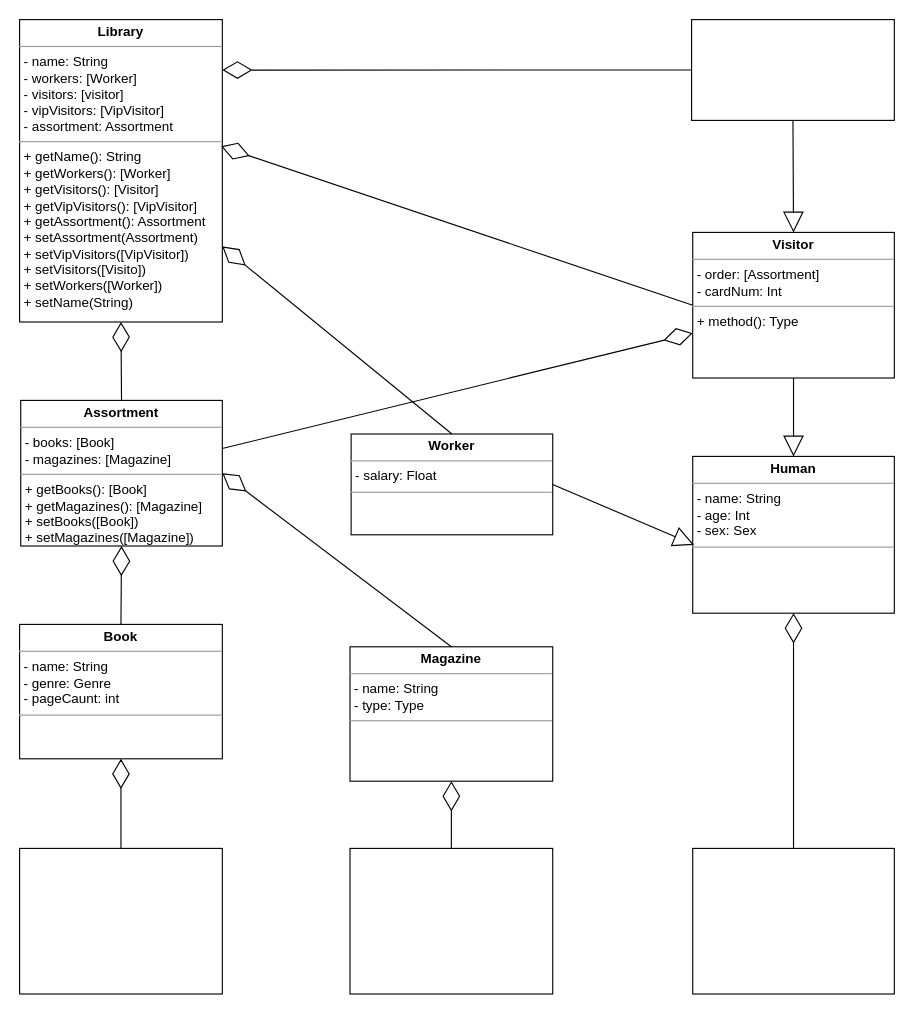
The diagram is 914 pixels wide and 1014 high, and some of its shapes have lost their labels. Each missing label, with the centre of its shape:
"enum Genre + Fantasy + Romance + Thriller + Mystery + Detective story + Horror" goes at (x=120, y=920).
"enum Sex + male + female" goes at (x=793, y=920).
"enum Type + Fashion + Video games + Health + Football + Music + Comics" goes at (x=451, y=920).
"VipVisitor - sale: Float" goes at (x=792, y=69).
